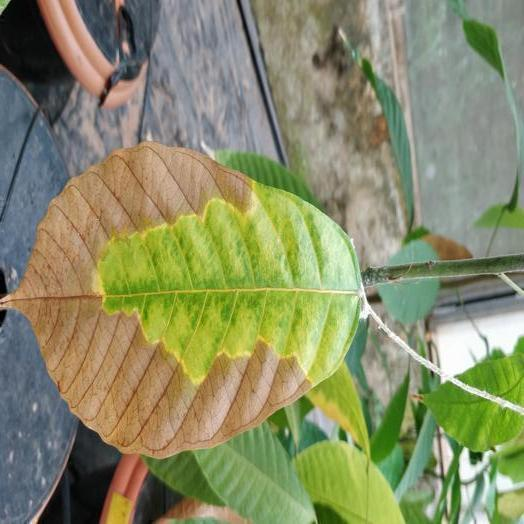Potassium: (0, 142, 365, 457)
